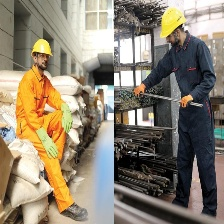helmet: (160, 6, 186, 41), (30, 39, 55, 57)
no-vest: (171, 39, 209, 113)
person: (16, 37, 88, 224), (160, 6, 220, 220)
